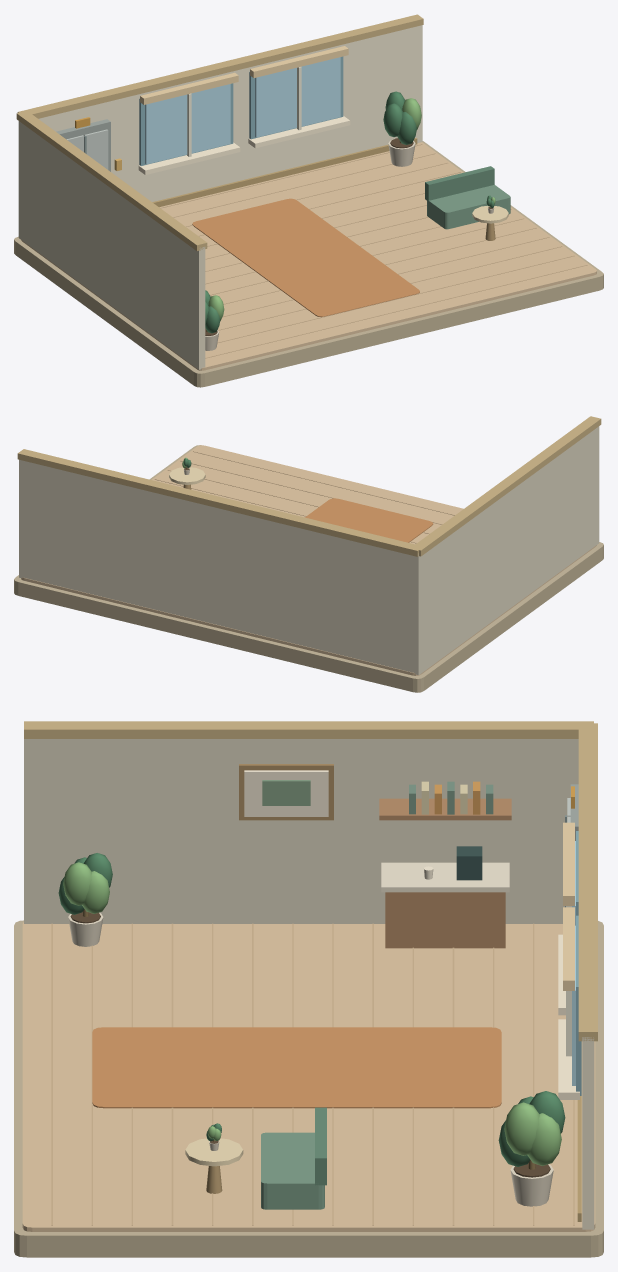
File: room-studio.glb
The picture shows the model from 3 angles, top to bottom: view 1: azimuth 30°, elevation 25°; view 2: azimuth 150°, elevation 25°; view 3: azimuth 270°, elevation 25°; orthographic projection. The views are drawn at different scales.
Parts seen in each view (by area): view 1: room-studio; view 2: room-studio; view 3: room-studio.
Part boxes in pixels (x1,y1,x2,y2): room-studio: (14,14,603,387); room-studio: (14,416,603,692); room-studio: (14,721,603,1257).
Size of the model in its own units: 9.3 by 3.05 by 7.35.
